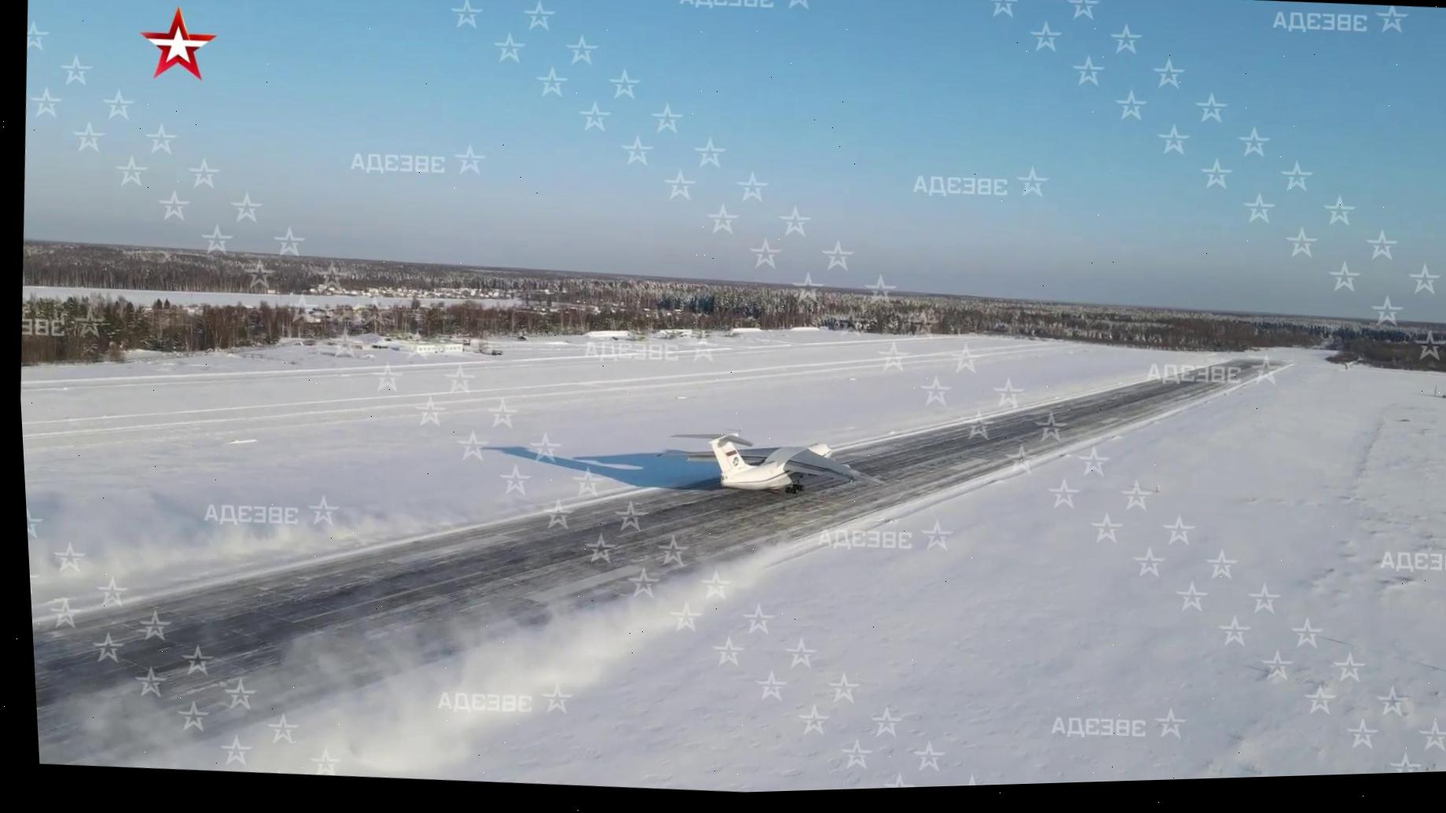plane: (671, 420, 886, 508)
